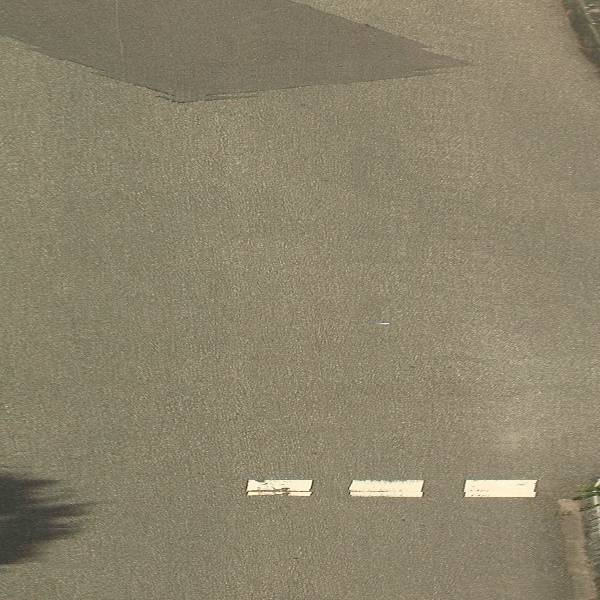road_damage: (59, 1, 489, 114)
